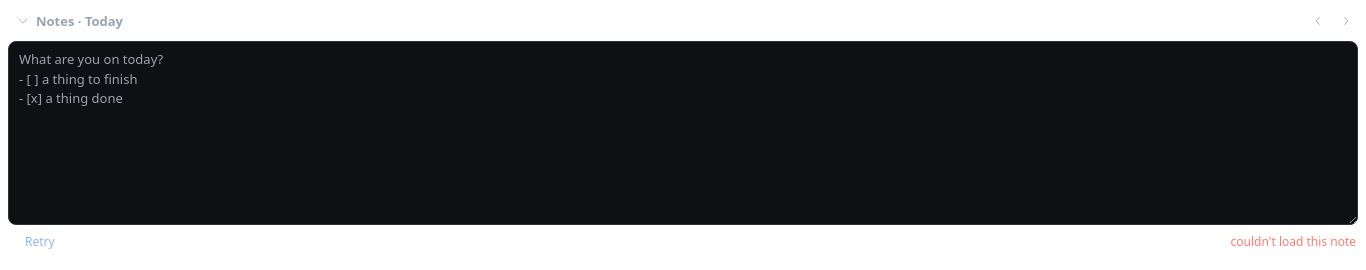
Test: Notes › never offers an empty pad to type over when the note fails to load
Click the button "Retry" at (40, 241), box [14, 229, 66, 253]
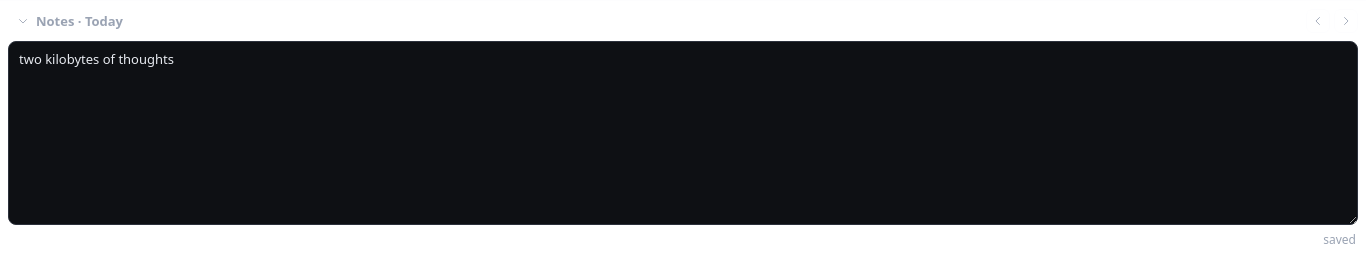
Expected: the text box holds "two kilobytes of thoughts"
